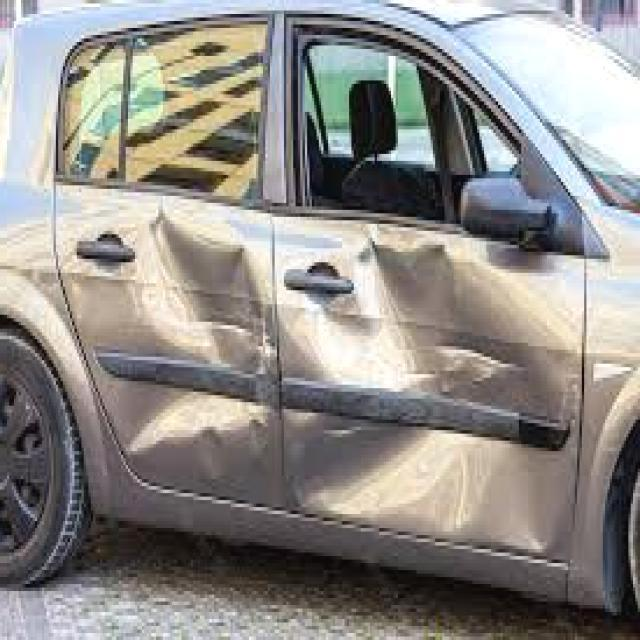minor: (141, 222, 267, 465)
moderate: (281, 257, 570, 512)
